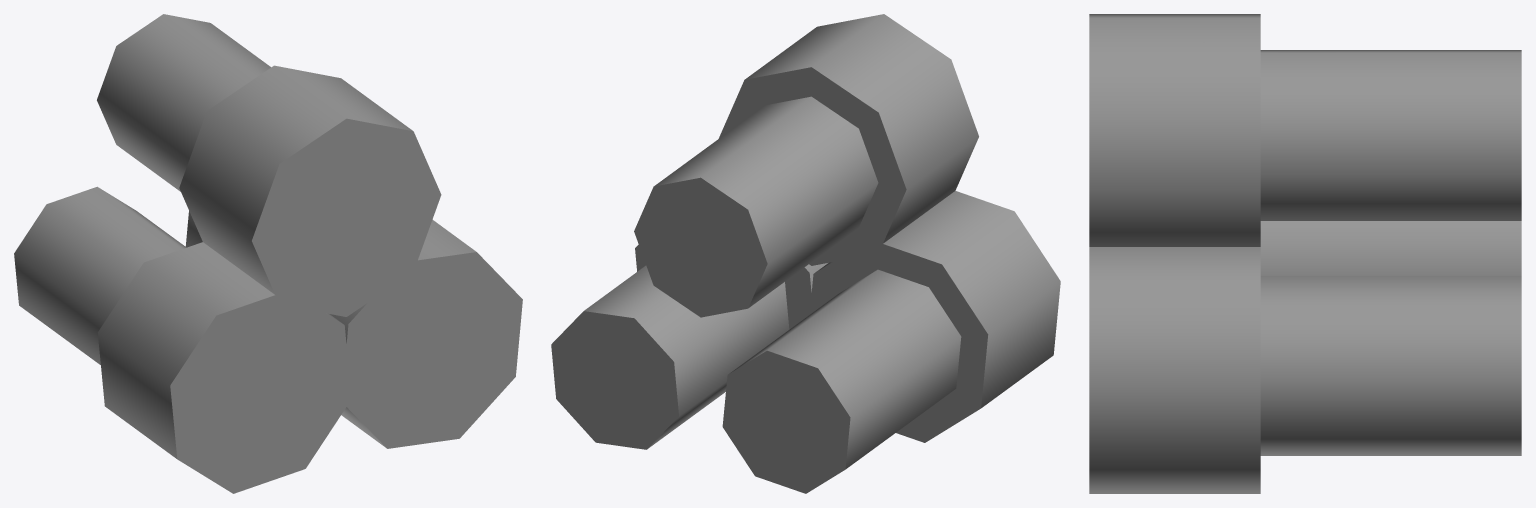
File: SM_FrontArching.fbx
3 renders of one model, left to right at view 1: azimuth 30°, elevation 25°; view 2: azimuth 150°, elevation 25°; view 3: azimuth 270°, elevation 25°, orthographic. The views are drawn at different scales.
Parts seen in each view (by area): view 1: FrontArching; view 2: FrontArching; view 3: FrontArching.
Boxes of the visible parts, x1,y1,x2,y2 form: FrontArching: (14,14,522,493); FrontArching: (551,14,1060,493); FrontArching: (1089,14,1521,493).
Bounding box in the file's own units: 1.37 × 1.29 × 1.23.
Materials: 1 (1 with a texture image).
